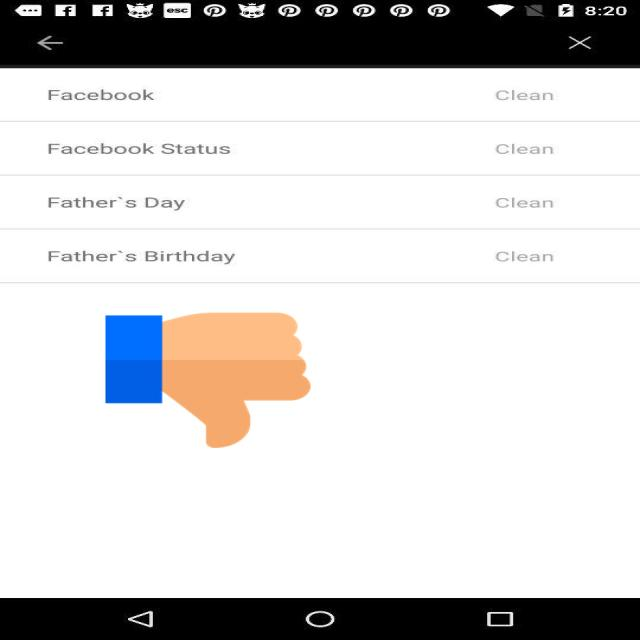obstruction: (106, 309, 310, 452)
